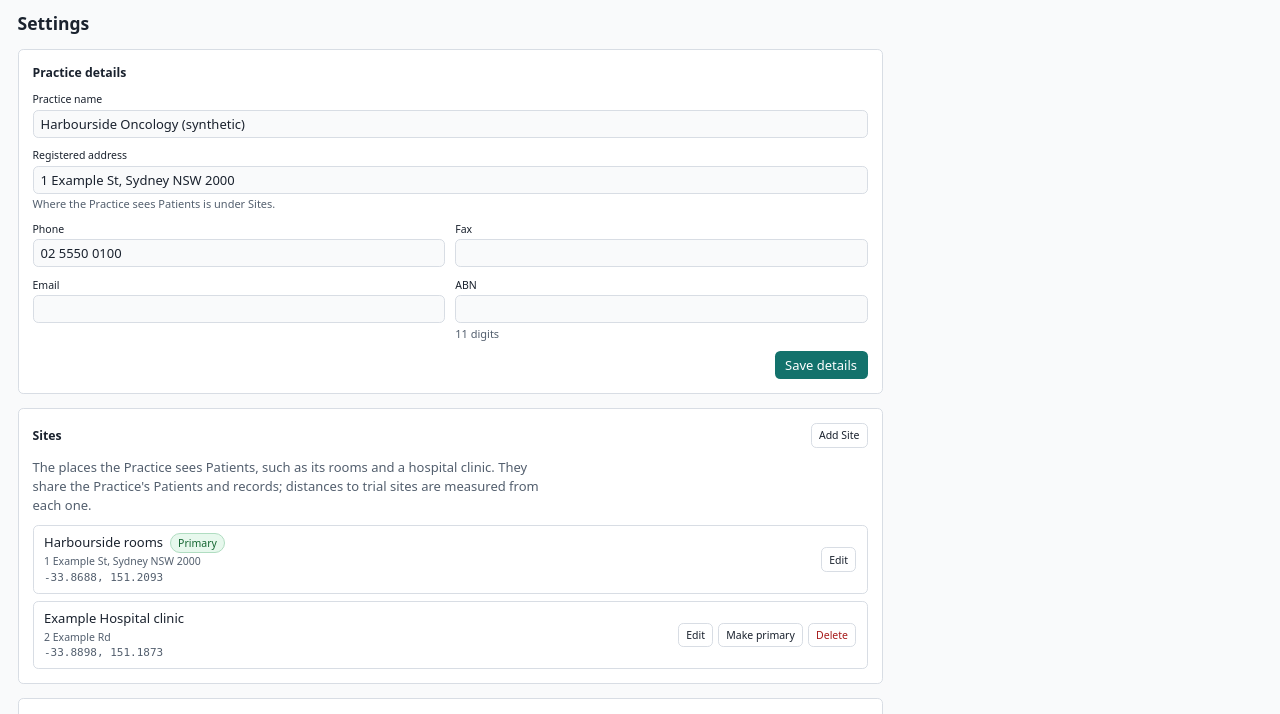
Test: Settings › saves only the Practice details that changed
Replace the text in the field labelled "Phone" with "02 5550 0199". click: [239, 253]
box: [32,239,445,267]
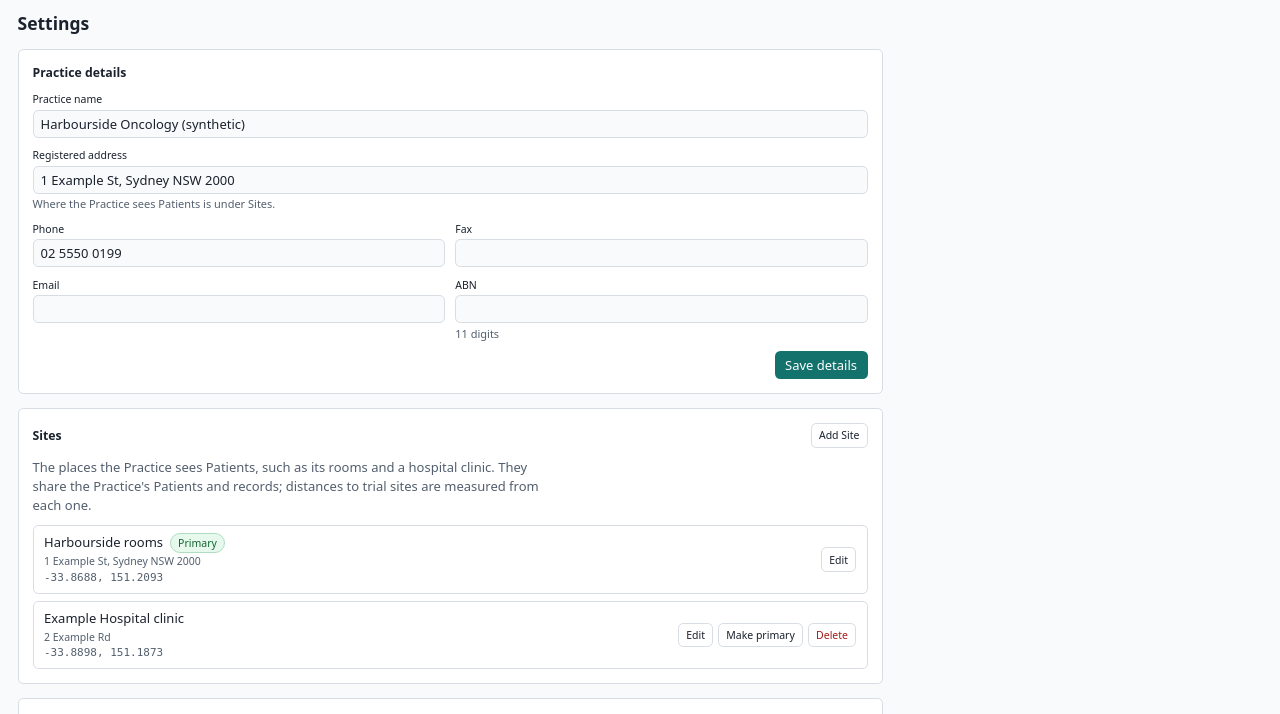
Click the button "Save details". click: [821, 365]
box: [774,351,868,379]
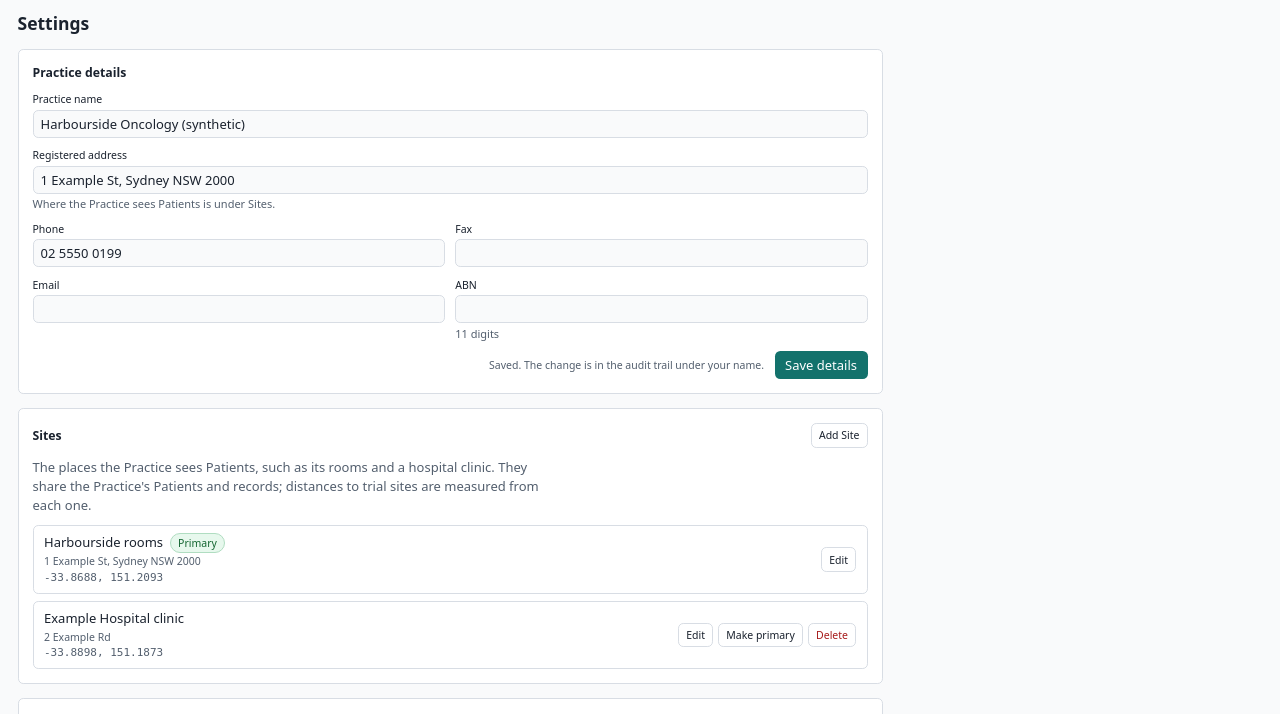
Result: the text "Saved. The change is in the audit trail under your name." is shown at [489,358,764,372]
